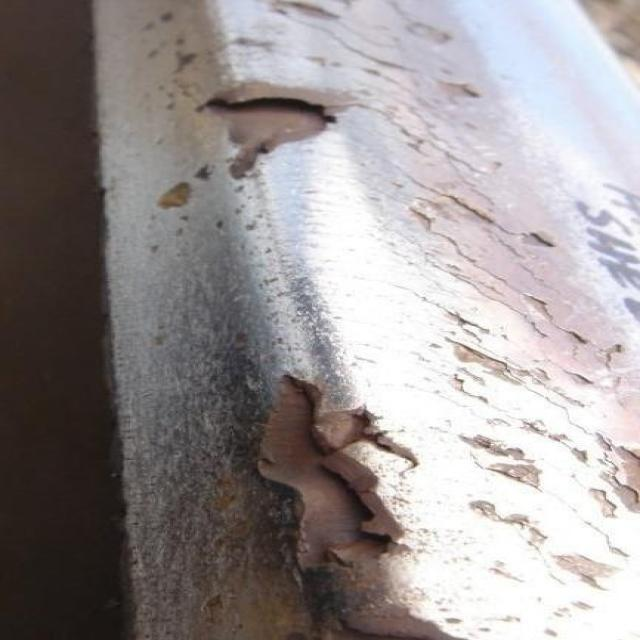broken_rail_medium: (228, 0, 640, 640), (248, 367, 422, 593), (201, 84, 341, 184), (144, 3, 206, 77), (157, 160, 221, 214)
